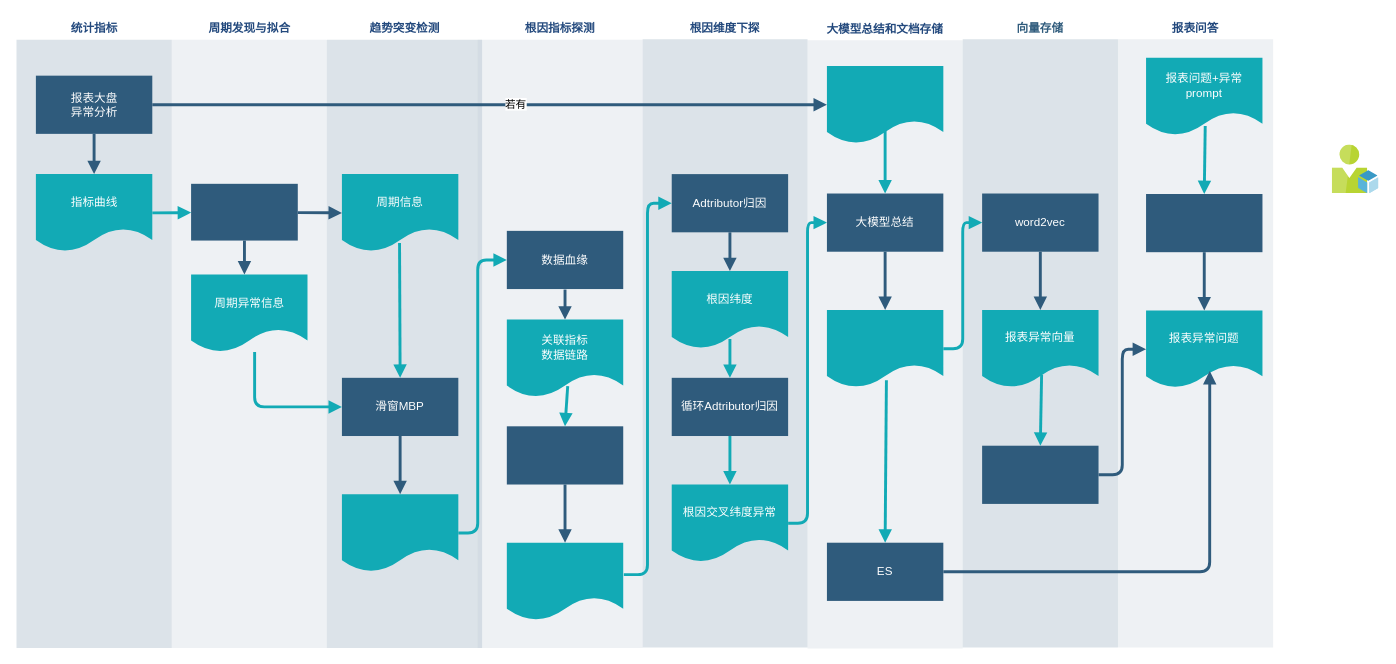
Some shapes in this 1396 by 664 pixel diagram are drawn without their labels. Here are the shapes that lost their labels. From the top down, the centre of each, then its label:
At point 884,104: "报表信息+异常问答".
At point 1355,169: "问答用户".
At point 244,211: "ACF拟合/时序离群检测".
At point 1204,223: "大模型润色+ word2vect".
At point 884,348: "报表异常描述".
At point 564,455: "Granger因果关联".
At point 1040,474: "Milvus".
At point 399,532: "异常指标+异常日期".
At point 564,581: "根因指标+异常日期".
